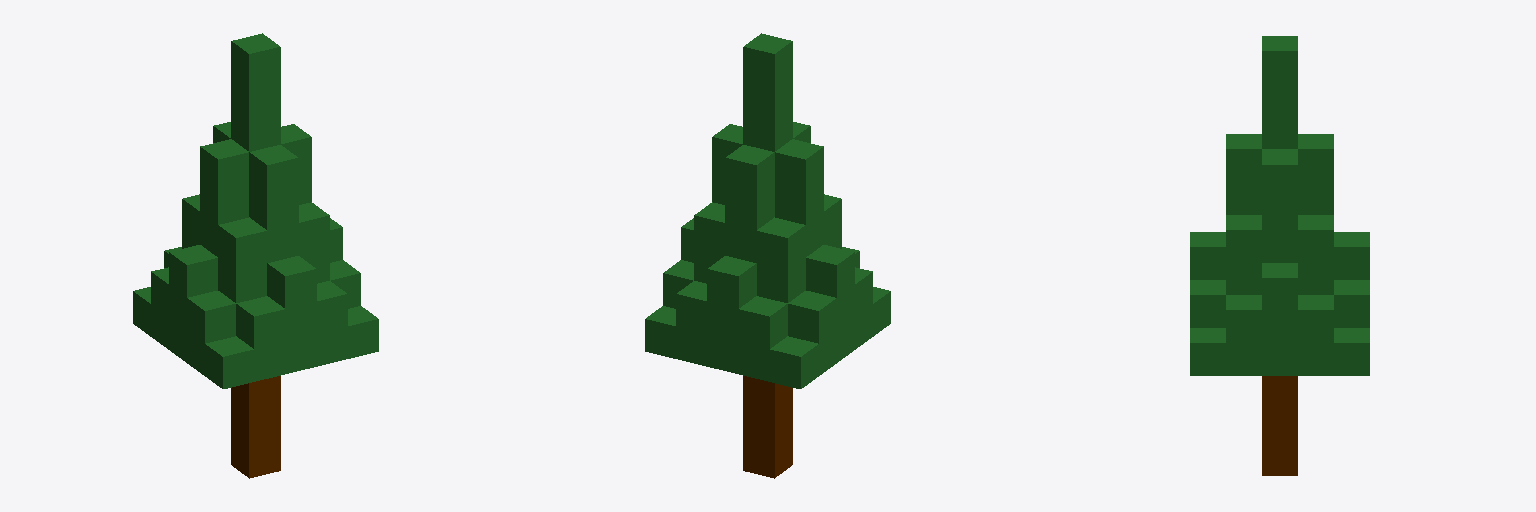
3 renders of one model, left to right at view 1: azimuth 30°, elevation 25°; view 2: azimuth 150°, elevation 25°; view 3: azimuth 270°, elevation 25°, orthographic.
Parts seen in each view (by area): view 1: smallTree; view 2: smallTree; view 3: smallTree.
Boxes of the visible parts, x1,y1,x2,y2 form: smallTree: [133, 33, 378, 478]; smallTree: [645, 33, 890, 478]; smallTree: [1190, 36, 1369, 475].
Bounding box in the file's own units: 5 × 13 × 5.
1 materials, 1 textured.